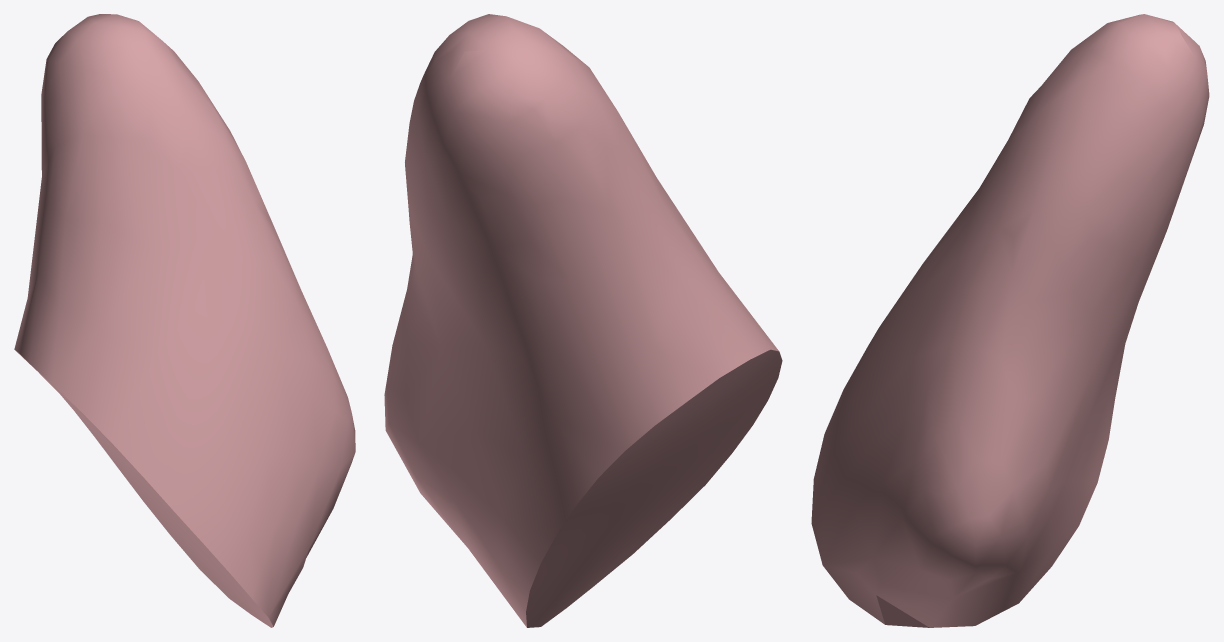
File: fma39361-n_mm1940m.glb
The picture shows the model from 3 angles, left to right: view 1: azimuth 30°, elevation 25°; view 2: azimuth 150°, elevation 25°; view 3: azimuth 270°, elevation 25°; orthographic projection. The views are drawn at different scales.
Parts seen in each view (by area): view 1: FMA39361-N_MM1940M; view 2: FMA39361-N_MM1940M; view 3: FMA39361-N_MM1940M.
Boxes of the visible parts, <box> form: FMA39361-N_MM1940M: <box>14,14,355,627</box>; FMA39361-N_MM1940M: <box>384,14,782,627</box>; FMA39361-N_MM1940M: <box>811,14,1209,627</box>.
Size of the model in its own units: 0.0066 by 0.0113 by 0.00698.
